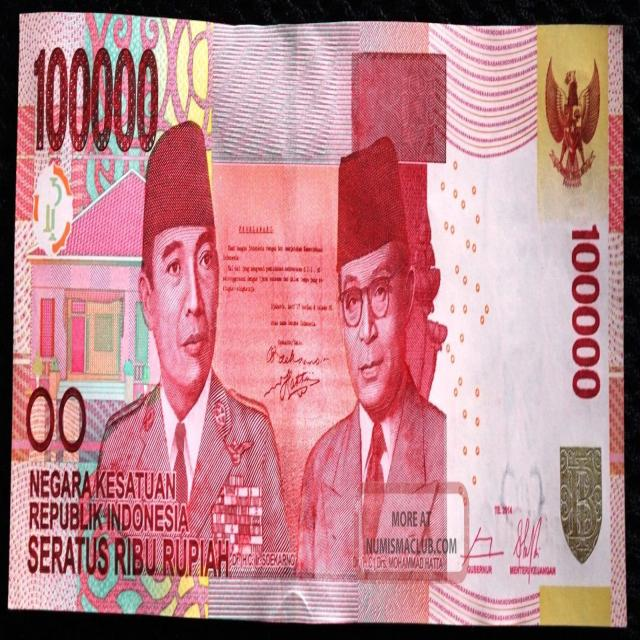seratus ribu rupiah: (9, 12, 629, 632)
